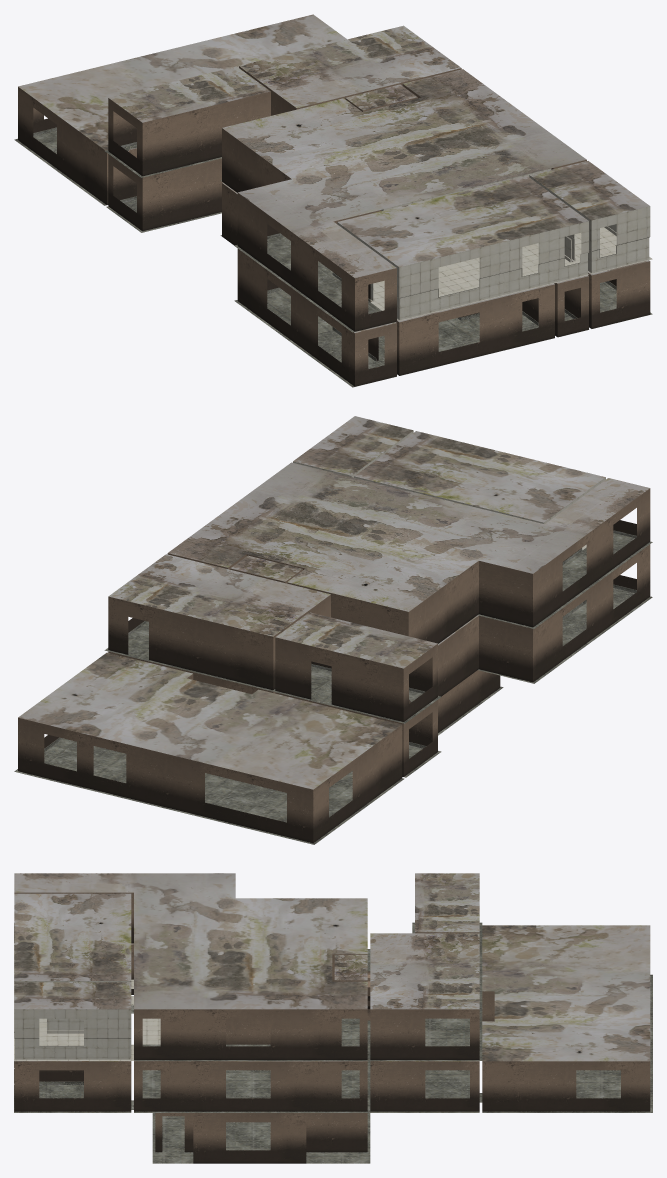
Rendered from A2_InteriorStructure.FBX.
3 views of the same model, one above another, from view 1: azimuth 30°, elevation 25°; view 2: azimuth 150°, elevation 25°; view 3: azimuth 270°, elevation 25° (orthographic). The views are drawn at different scales.
Visible parts, largest first — view 1: A2_InteriorStructure; view 2: A2_InteriorStructure; view 3: A2_InteriorStructure.
Part boxes in pixels (<box>): A2_InteriorStructure: <box>14,14,652,387</box>; A2_InteriorStructure: <box>14,416,652,844</box>; A2_InteriorStructure: <box>14,873,652,1163</box>.
Bounding box in the file's own units: 1830 × 952 × 3573.
